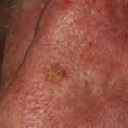Actinic: (38, 59, 70, 90)
